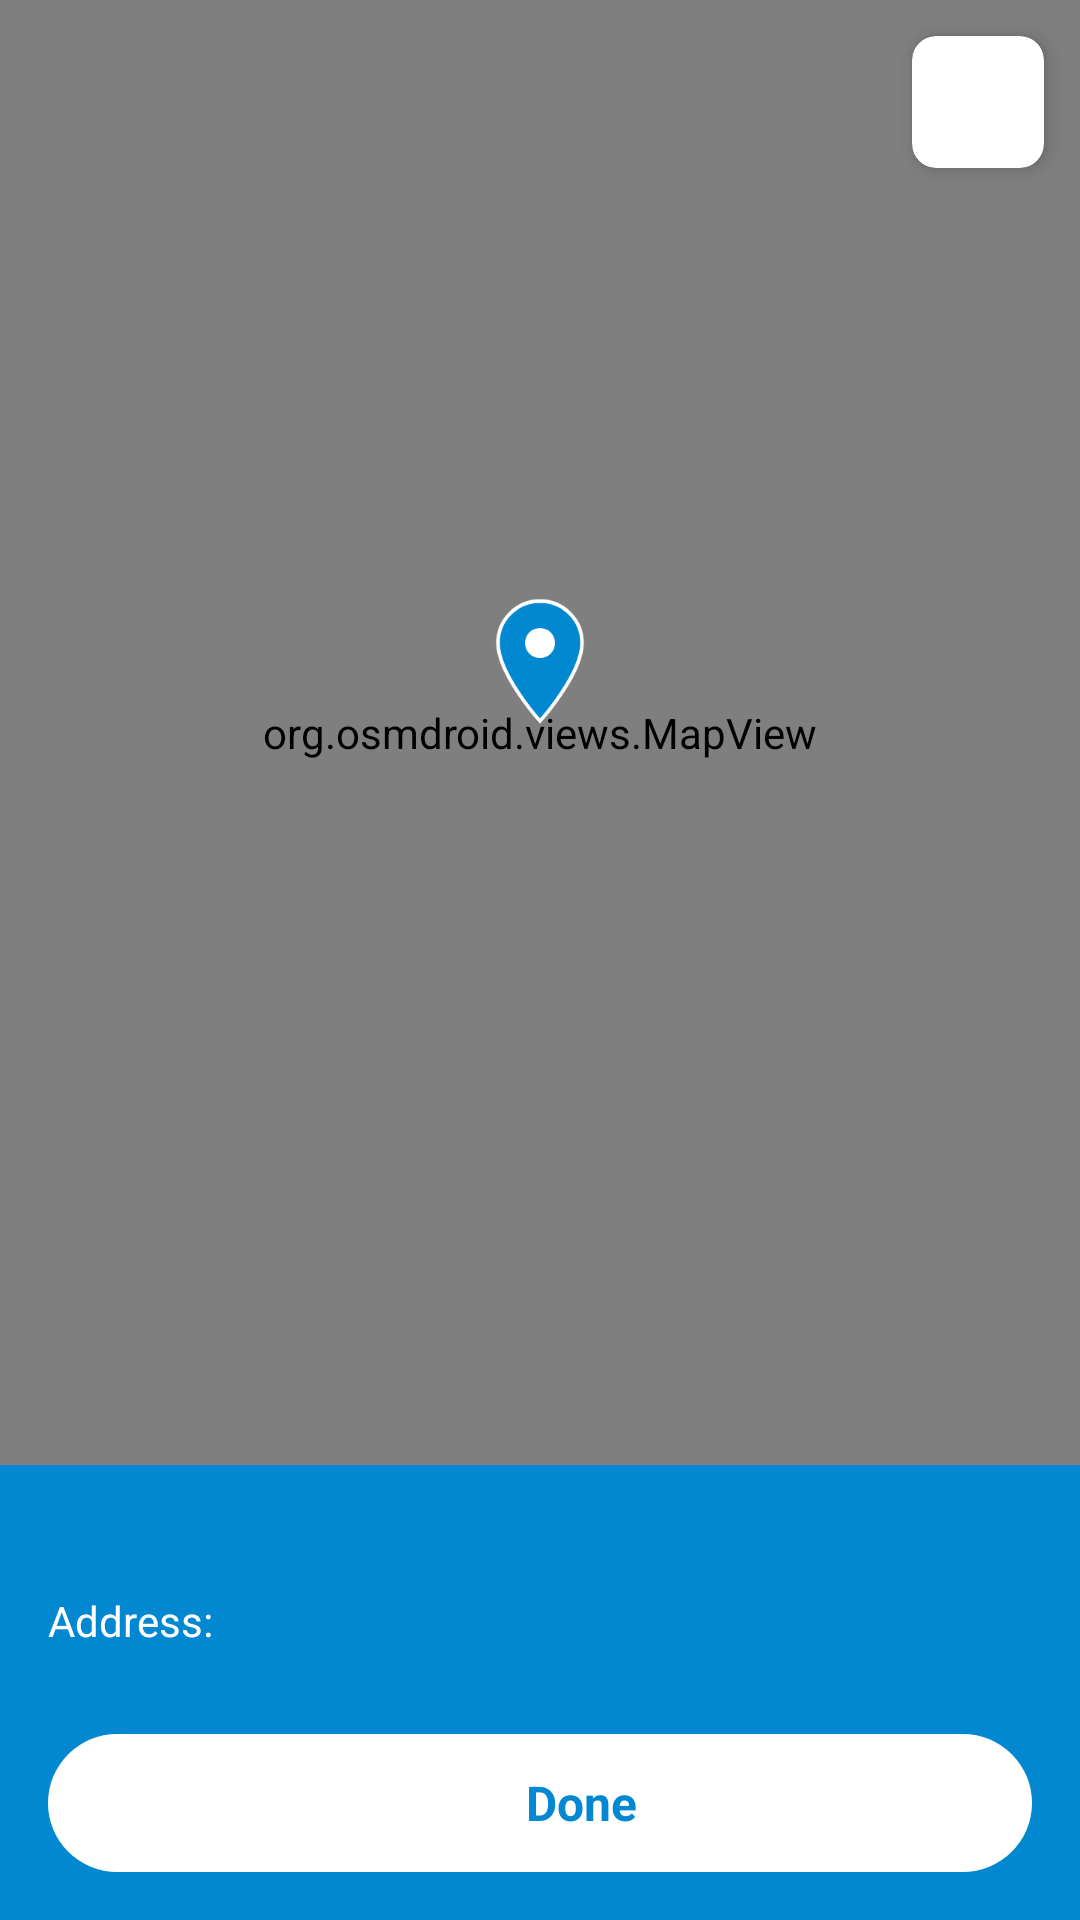

Icons on this 1080×1920 Android screen, each with its box as {"x1": x1, "y1": y1, "x2": x2, "y2": y2}:
destination: {"x1": 483, "y1": 599, "x2": 584, "y2": 724}
